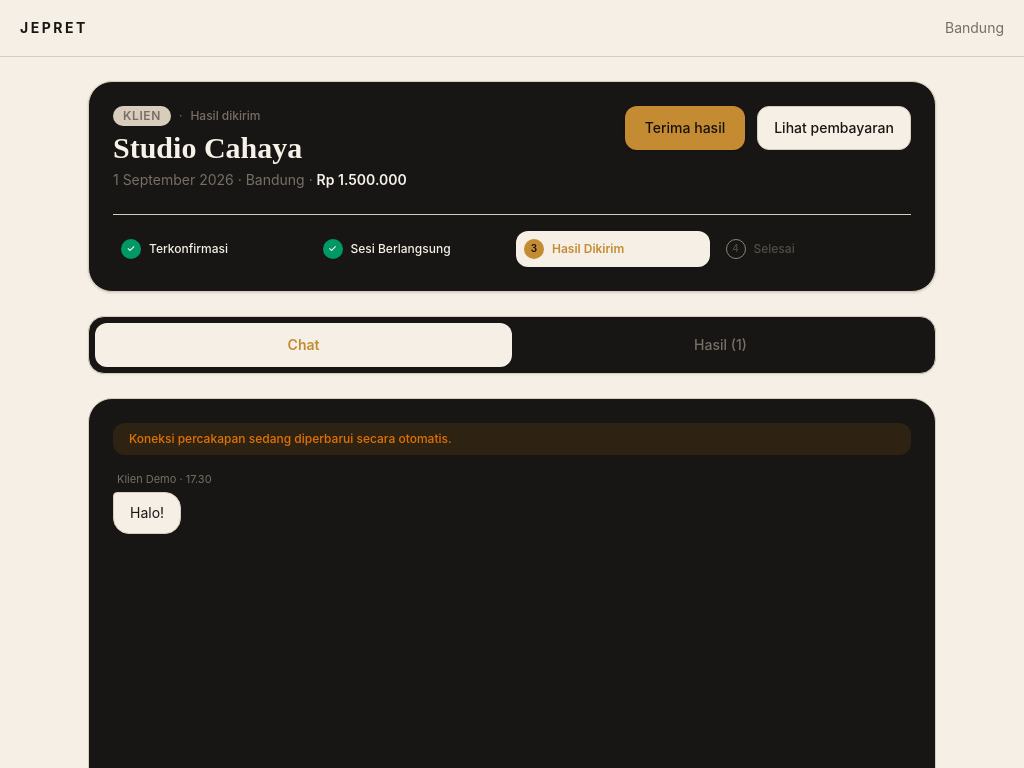
it: WorkspacePage › displays external deliverable link with domain hostname
Click the tab "Hasil (1)" at (720, 345), box [512,323,929,367]
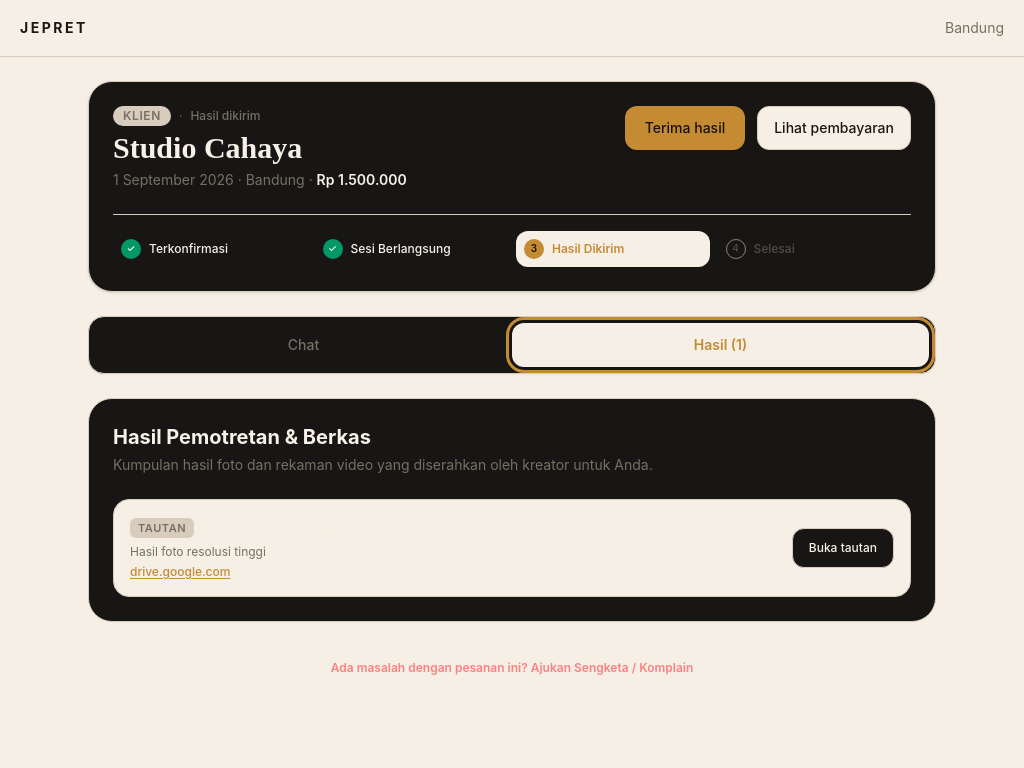
expect the link "drive.google.com" is shown: met, box [130,564,230,579]
